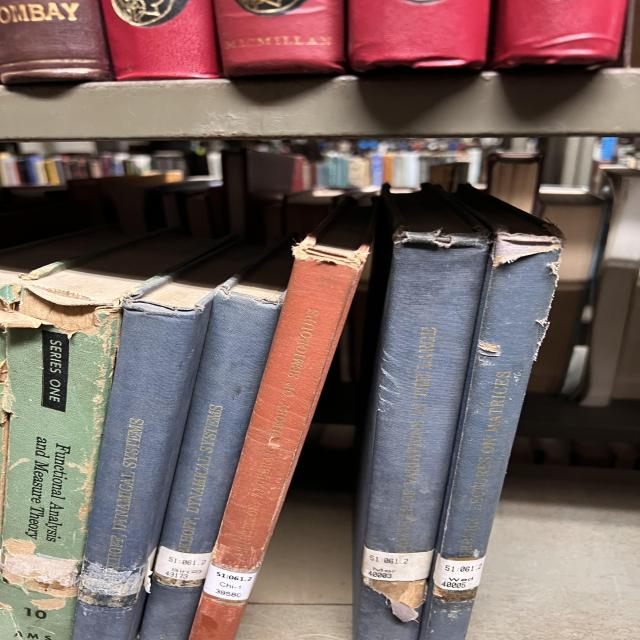Book: (188, 199, 375, 640), (0, 232, 200, 640), (420, 190, 562, 640), (353, 185, 490, 640), (140, 240, 293, 640), (73, 295, 212, 640)
Label: (78, 560, 145, 608), (362, 546, 433, 581), (153, 546, 212, 581), (203, 564, 257, 601), (433, 554, 485, 591)
